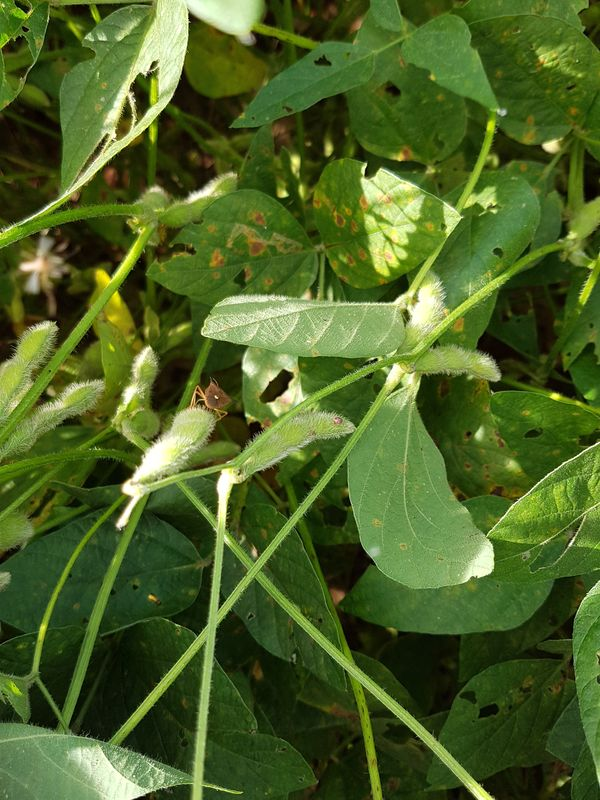Euschistus_heros_adulto: (184, 373, 238, 428)
